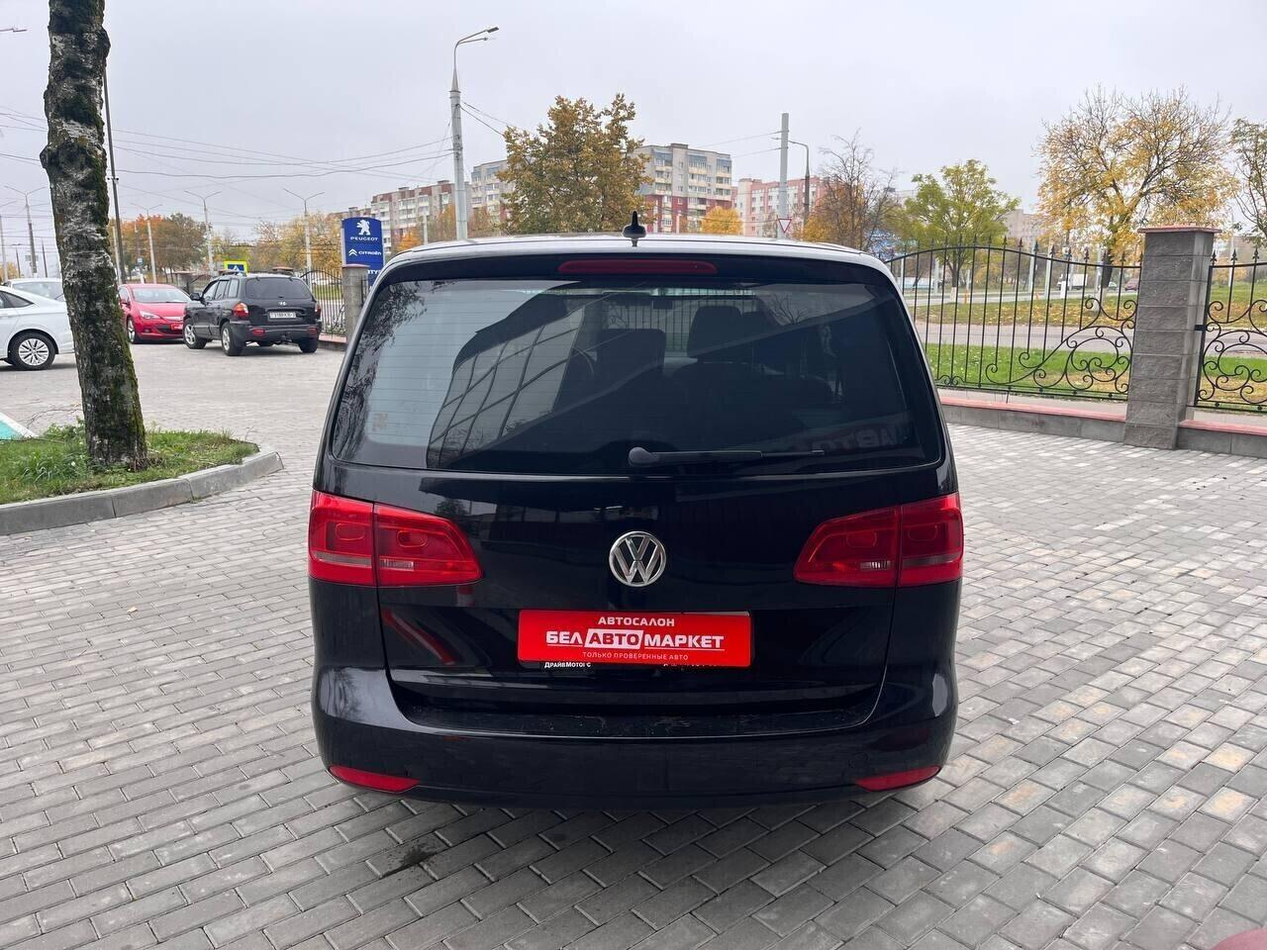Touran_2010-2015: (306, 230, 963, 813)
